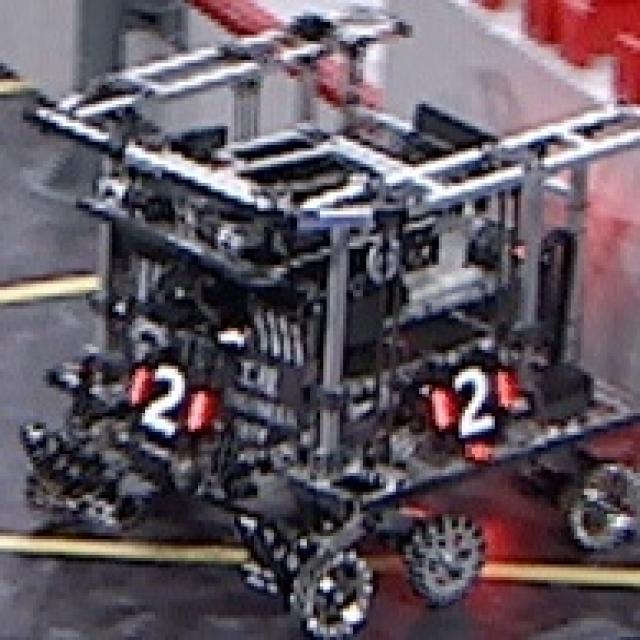R2: (117, 361, 210, 440), (430, 364, 520, 437)
